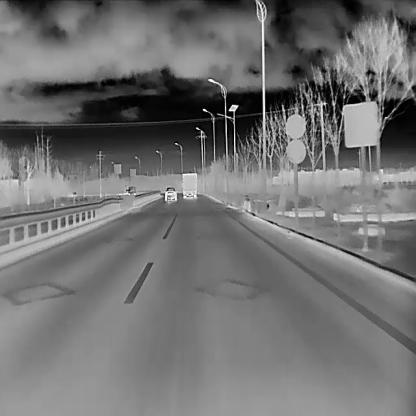car: (163, 186, 178, 201)
truck: (180, 172, 197, 198), (126, 185, 136, 196)
